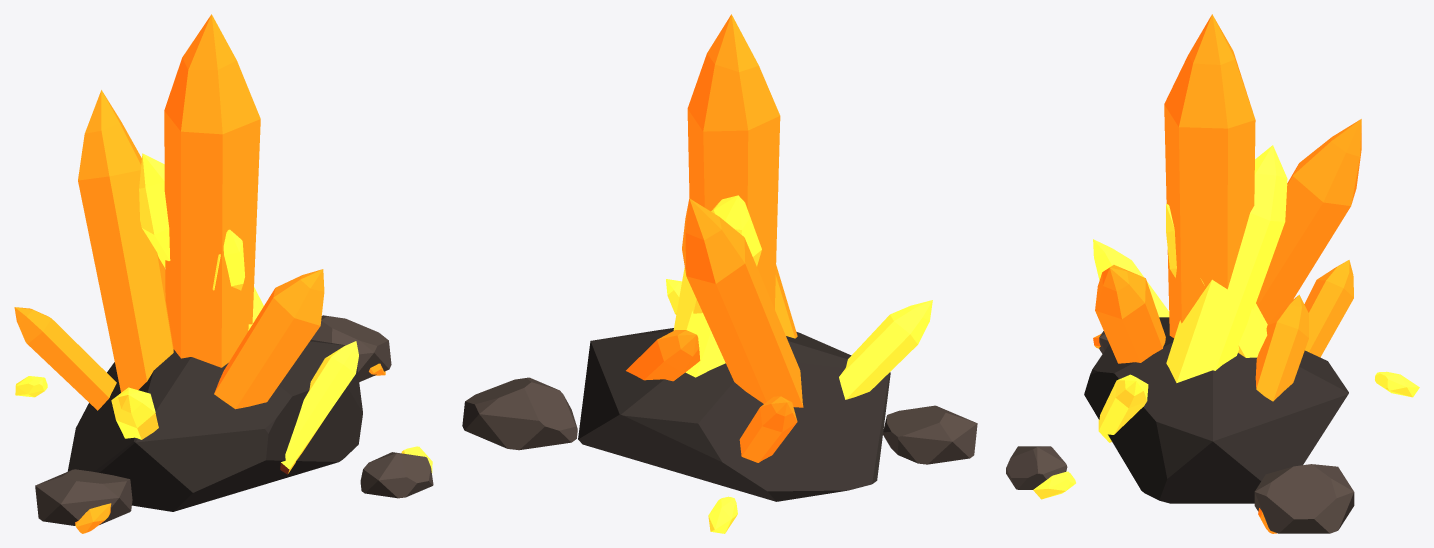
Rendered from ember_crystal.glb.
3 views of the same model, side by side, from view 1: azimuth 30°, elevation 25°; view 2: azimuth 150°, elevation 25°; view 3: azimuth 270°, elevation 25° (orthographic). The views are drawn at different scales.
Parts seen in each view (by area): view 1: ember_crystal; view 2: ember_crystal; view 3: ember_crystal.
Boxes of the visible parts, x1=… form: ember_crystal: x1=14, y1=14, x2=433, y2=533; ember_crystal: x1=462, y1=14, x2=977, y2=533; ember_crystal: x1=1006, y1=14, x2=1419, y2=533.
Size of the model in its own units: 1.32 by 1.31 by 1.13.
